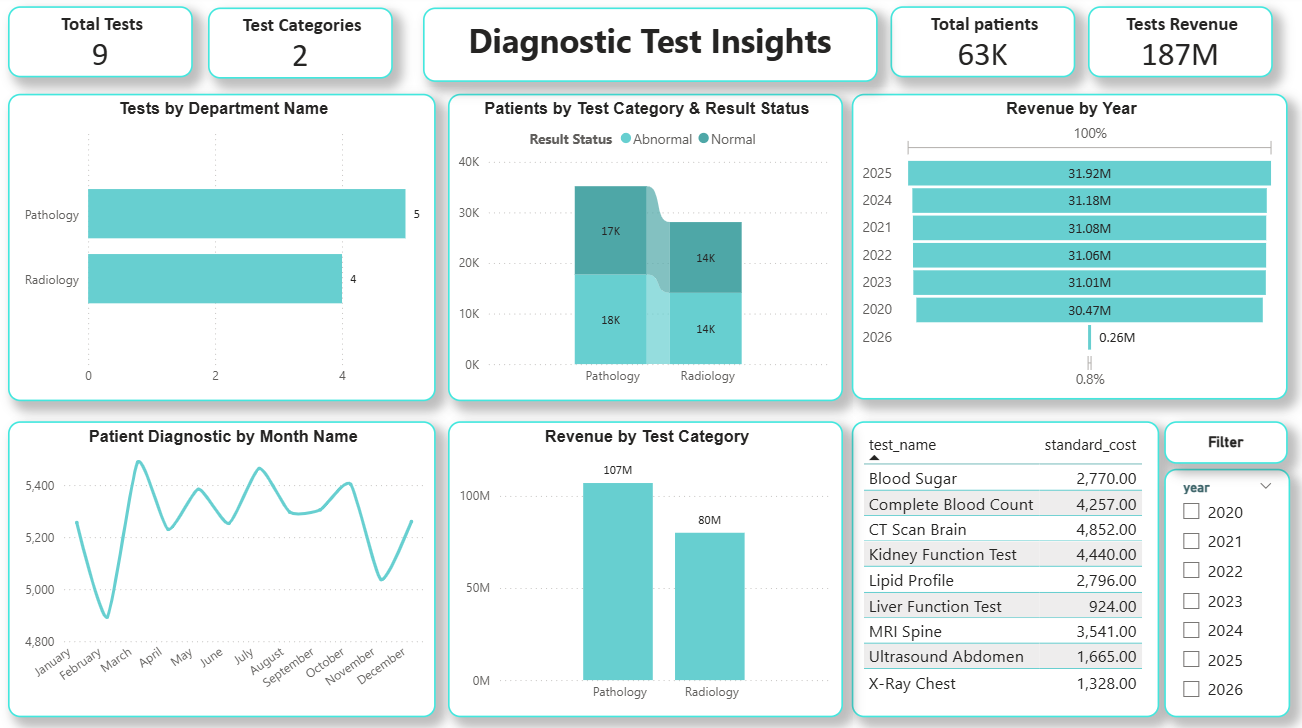

What the dashboard file says about the page in this screenshot:
{"tool":"powerbi","page":{"name":"Diagonistic Test","canvas":[1280,720],"ordinal":5},"visuals":[{"type":"card","title":"Total Tests","fields":{"Values":["Diagnostic Tests.Total Number of Tests"]},"box":[9.6,11,181.1,70],"z":0},{"type":"card","title":"Test Categories","fields":{"Values":["Diagnostic Tests.Total Number of Test Departments"]},"box":[205.8,12.3,181.1,70],"z":1000},{"type":"card","title":"Total patients","fields":{"Values":["Patient Diagnostics.Total Patient Diagnostic Tests"]},"box":[872.7,11,181.1,70],"z":2000},{"type":"card","title":"Tests Revenue","fields":{"Values":["Patient Diagnostics.Total Diagonistic Revenue"]},"box":[1066.2,11,181.1,70],"z":3000},{"type":"barChart","title":"Tests by Department Name","fields":{"Category":["Diagnostic Tests.department_name"],"Y":["Diagnostic Tests.Total Number of Tests"]},"box":[9.6,96.1,418.5,300.5],"z":4000},{"type":"tableEx","fields":{"Values":["Diagnostic Tests.test_name","Diagnostic Tests.standard_cost"]},"box":[835.2,417,300.8,289.8],"z":5000},{"type":"columnChart","title":"Patients  by Test Category & Result Status","fields":{"Category":["Diagnostic Tests.test_category"],"Y":["Patient Diagnostics.Total Patient Diagnostic Tests"],"Series":["Patient Diagnostics.result_status"]},"box":[440.2,96.6,386.4,300.8],"z":6000},{"type":"lineChart","title":"Patient Diagnostic by Month Name","fields":{"Y":["Patient Diagnostics.Total Patient Diagnostic Tests"],"Category":["Date.month_name"]},"box":[9.8,417,418.2,289.8],"z":7000},{"type":"slicer","fields":{"Values":["Date.year"]},"box":[1140.9,463.5,123.5,243.3],"z":8000},{"type":"columnChart","title":"Revenue by Test Category","fields":{"Category":["Diagnostic Tests.test_category"],"Y":["Patient Diagnostics.Total Diagonistic Revenue"]},"box":[440.2,417,386.4,289.8],"z":9000},{"type":"funnel","title":"Revenue by Year","fields":{"Category":["Date.year"],"Y":["Patient Diagnostics.Total Diagonistic Revenue"]},"box":[835.2,96.6,426.8,299.6],"z":10000},{"type":"textbox","box":[1140.9,417,121.1,41.6],"z":11000},{"type":"textbox","box":[415.8,12.3,444.6,72.7],"z":12000}]}

Visuals, with their boxes in screenshot pixels (x1, y1, x2, y2), scaled from the page's 1280x720 canvas onto the 1302x728 screenshot:
"Total Tests" card: 10/11/194/82
"Test Categories" card: 209/12/394/83
"Total patients" card: 888/11/1072/82
"Tests Revenue" card: 1085/11/1269/82
"Tests by Department Name" barChart: 10/97/435/401
tableEx - Diagnostic Tests.test_name x Diagnostic Tests.standard_cost: 850/422/1156/715
"Patients  by Test Category & Result Status" columnChart: 448/98/841/402
"Patient Diagnostic by Month Name" lineChart: 10/422/435/715
slicer - Date.year: 1161/469/1286/715
"Revenue by Test Category" columnChart: 448/422/841/715
"Revenue by Year" funnel: 850/98/1284/401
textbox: 1161/422/1284/464
textbox: 423/12/875/86
